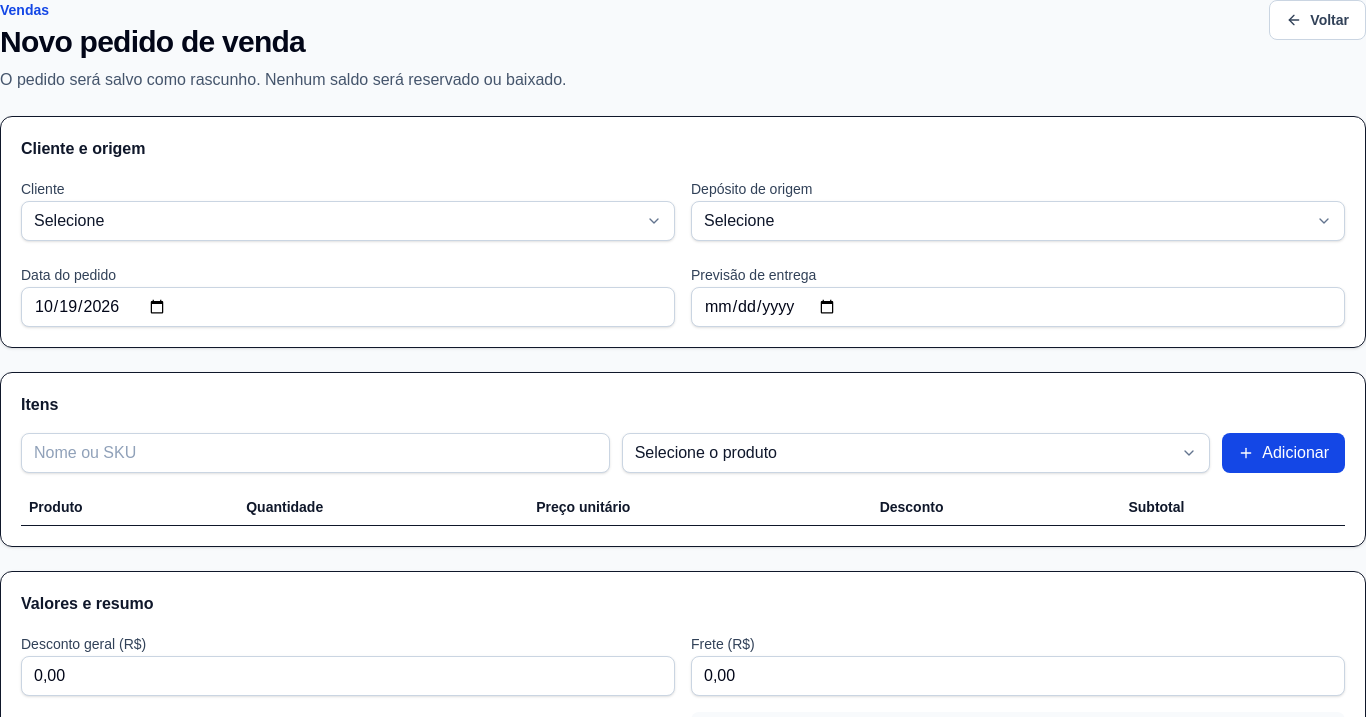
Test case: SalesOrderFormPage › exibe warning informativo quando total supera limite cadastrado
Step 1. Click the dropdown named "Cliente" → click(69, 220), box x1=21 y1=201 x2=675 y2=241
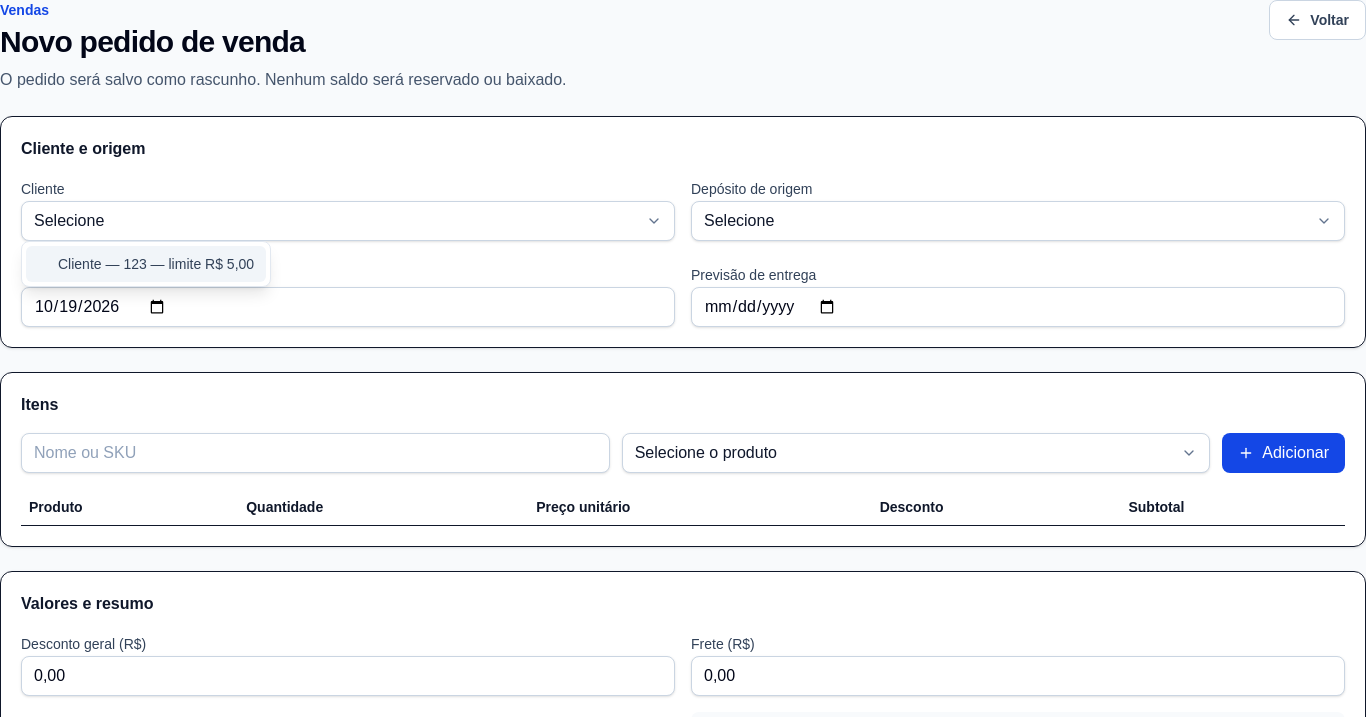
Step 2. Click the option "Cliente — 123 — limite R$ 5,00" → click(146, 264), box x1=26 y1=246 x2=266 y2=282
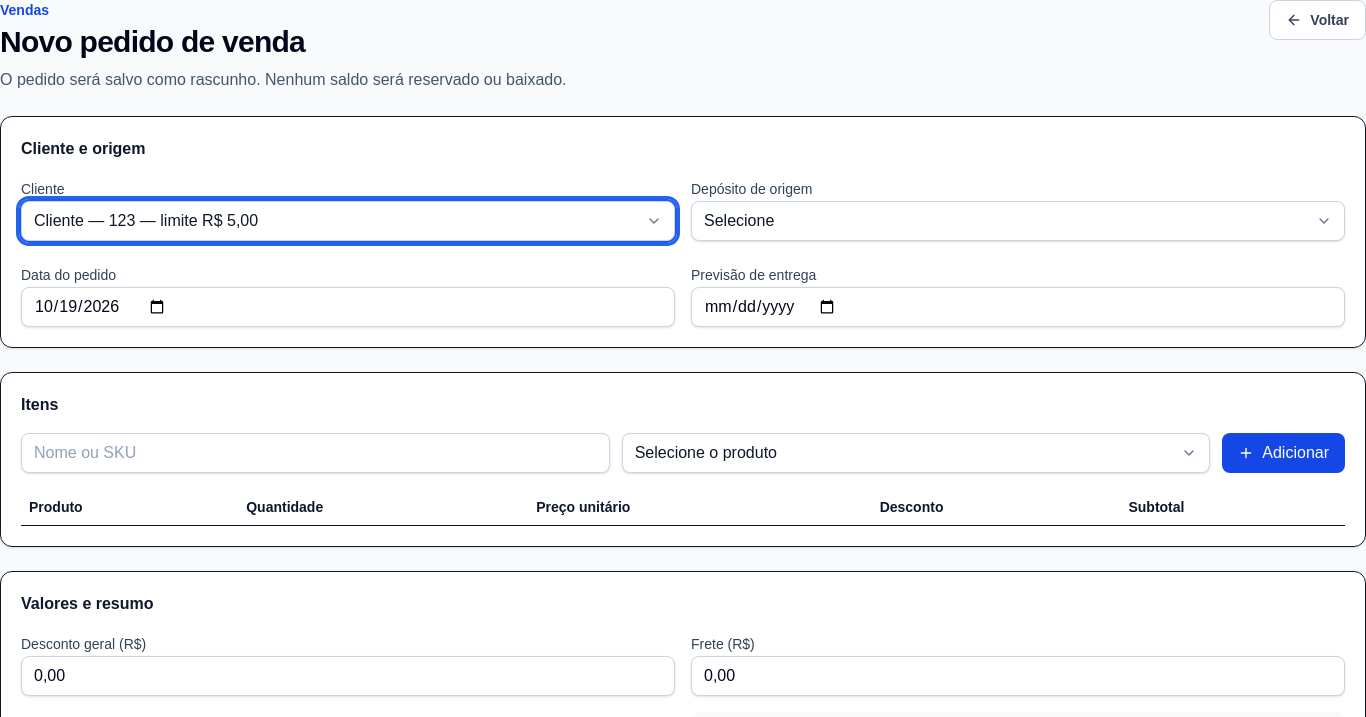
Step 3. Click the dropdown labelled "produto" → click(706, 452), box x1=622 y1=433 x2=1210 y2=473
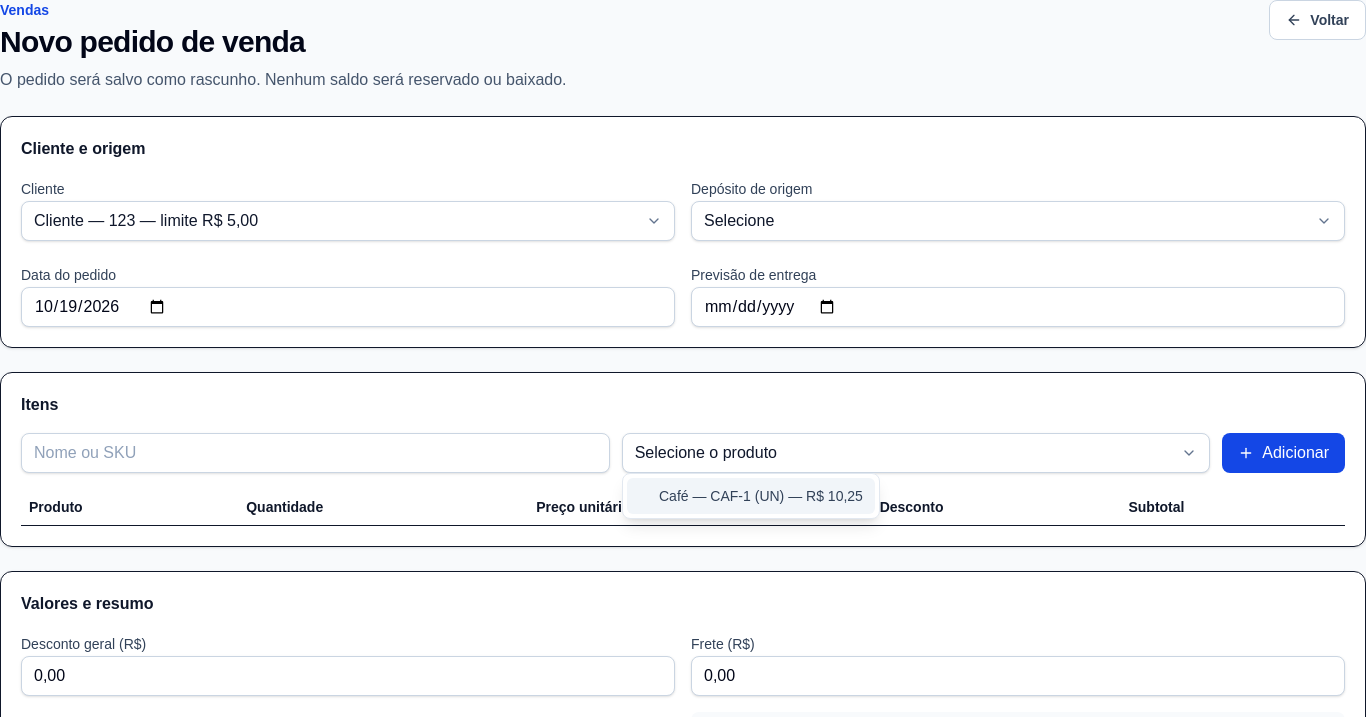
Step 4. Click the option "Café — CAF-1 (UN) — R$ 10,25" → click(751, 496), box x1=627 y1=478 x2=875 y2=514
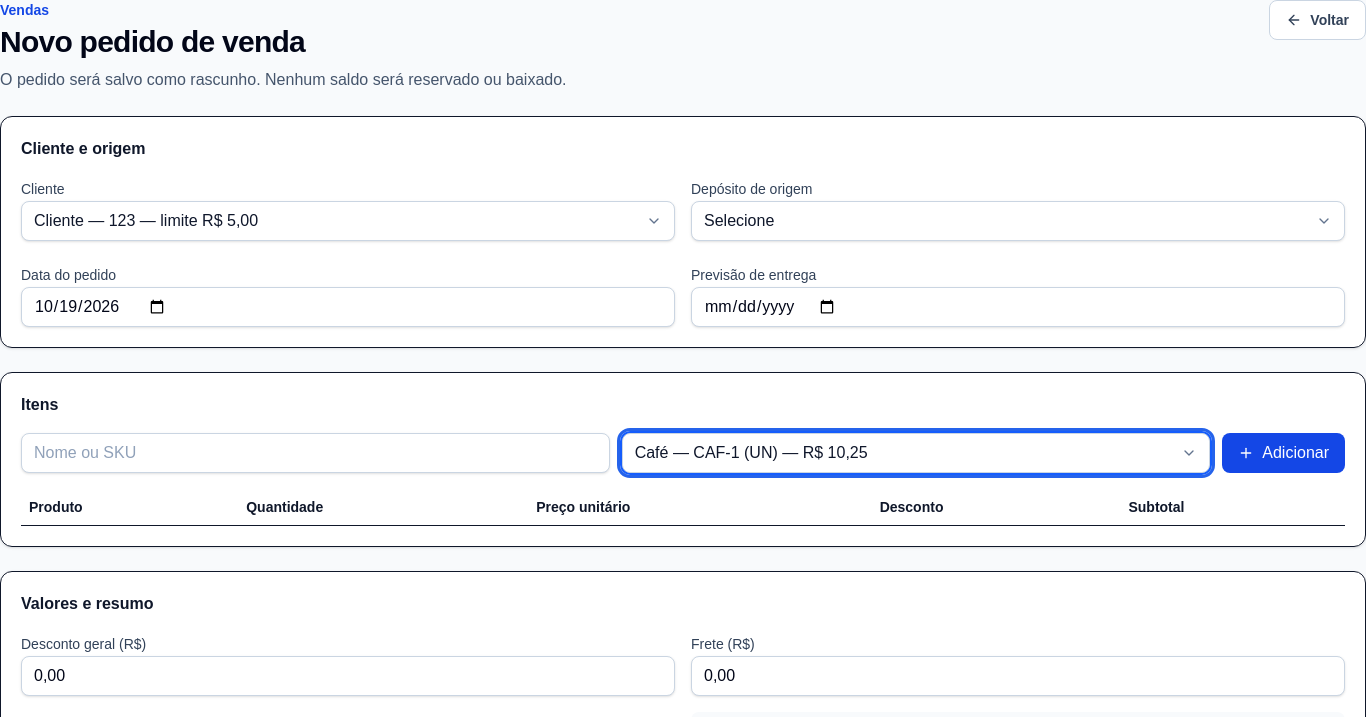
Step 5. Click the button "Adicionar" → click(1284, 453), box x1=1222 y1=433 x2=1345 y2=473
(page scrolled)
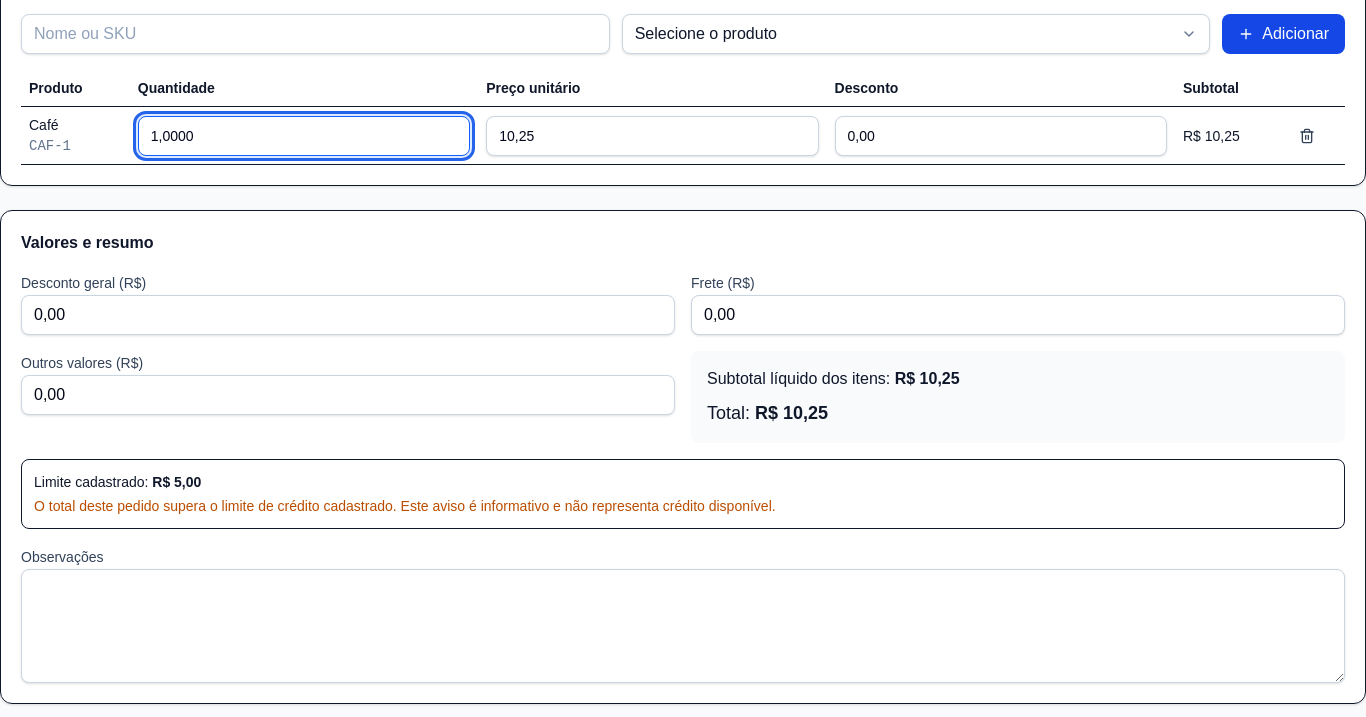
Expected: the message shows "supera o limite de crédito cadastrado", x1=34 y1=498 x2=776 y2=514
